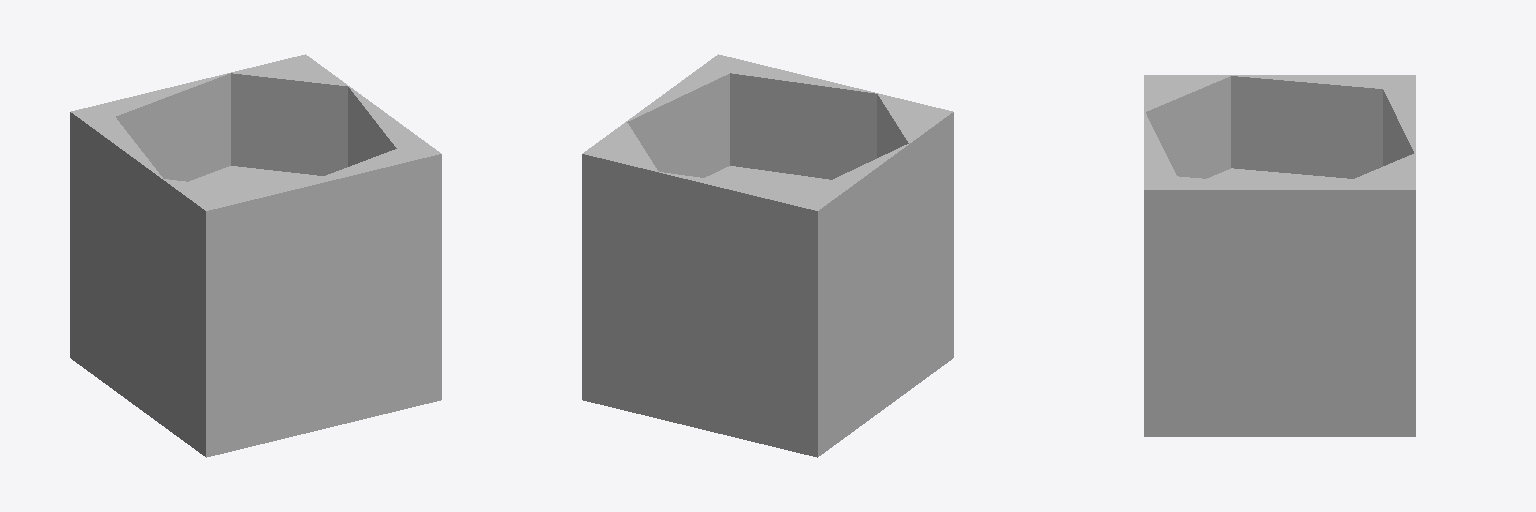
The model's file is Hexagon_cube_bottle_rotated45_preprocessed.obj.
3 views of the same model, side by side, from view 1: azimuth 30°, elevation 25°; view 2: azimuth 150°, elevation 25°; view 3: azimuth 270°, elevation 25° (orthographic).
Bounding box in the file's own units: 0.08 × 0.08 × 0.08.